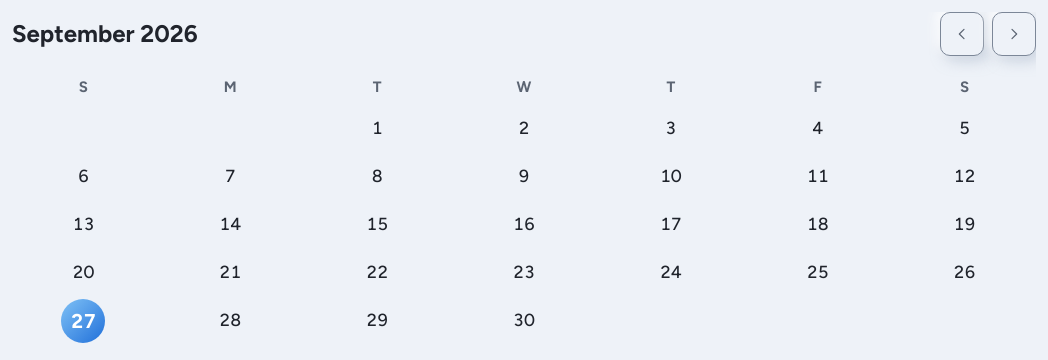
MiniMonth › Previous month then Next month returns to today's highlighted month
The image size is (1048, 360).
Click the button named "Previous month" at (962, 34), box x1=940 y1=12 x2=984 y2=56
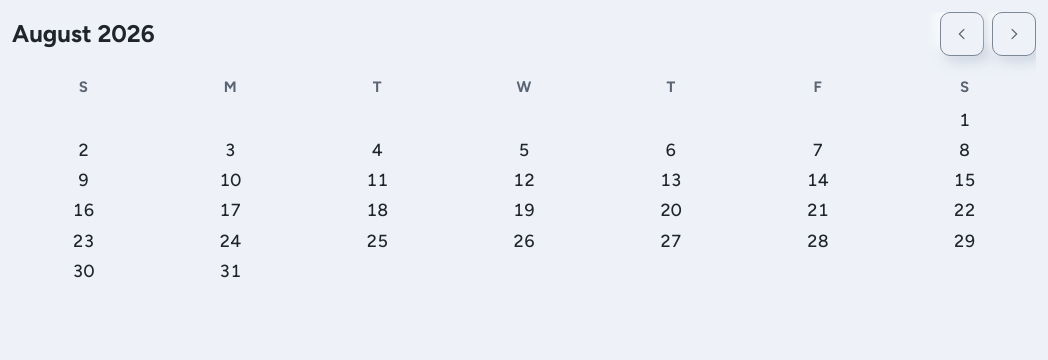
Check: the text "August 2026" is shown, box x1=12 y1=16 x2=155 y2=52
Click the button named "Next month" at (1014, 34), box x1=992 y1=12 x2=1036 y2=56
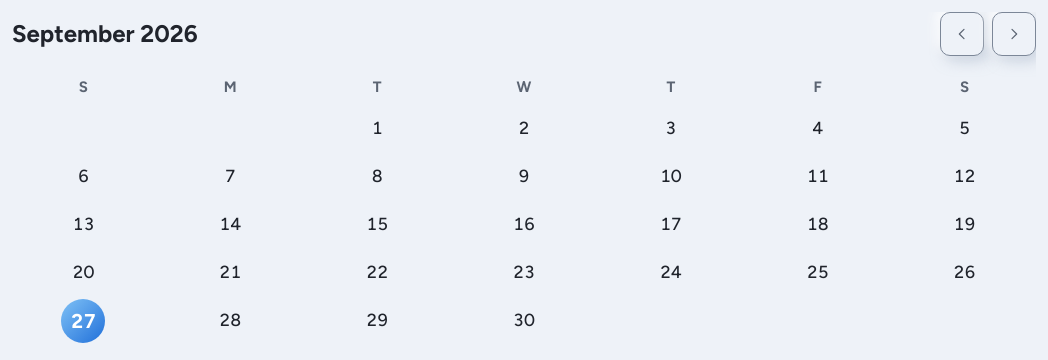
Check: the text "September 2026" is shown, box x1=12 y1=16 x2=198 y2=52
Check: the button named "Today, September 27" is shown, box x1=12 y1=298 x2=155 y2=342
